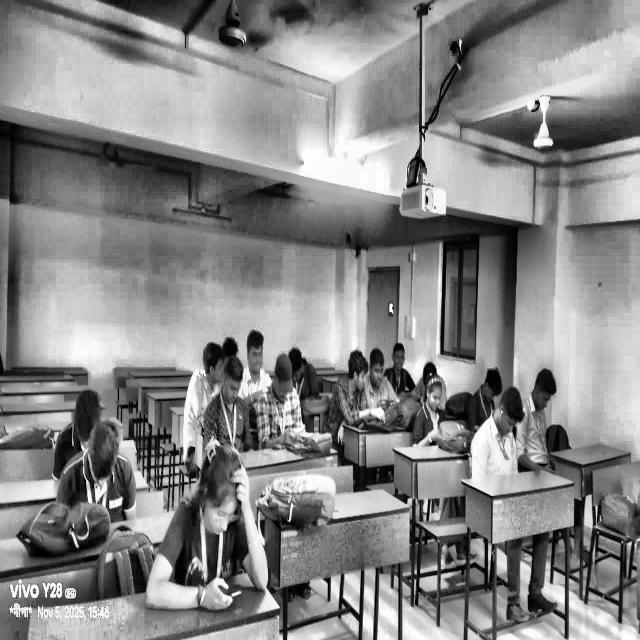Not Focus: (205, 302, 303, 424), (194, 431, 261, 552), (517, 355, 593, 459), (476, 385, 519, 512), (76, 383, 133, 465), (81, 424, 128, 515), (466, 356, 504, 450), (346, 332, 390, 401), (413, 363, 447, 441), (388, 328, 412, 381)
